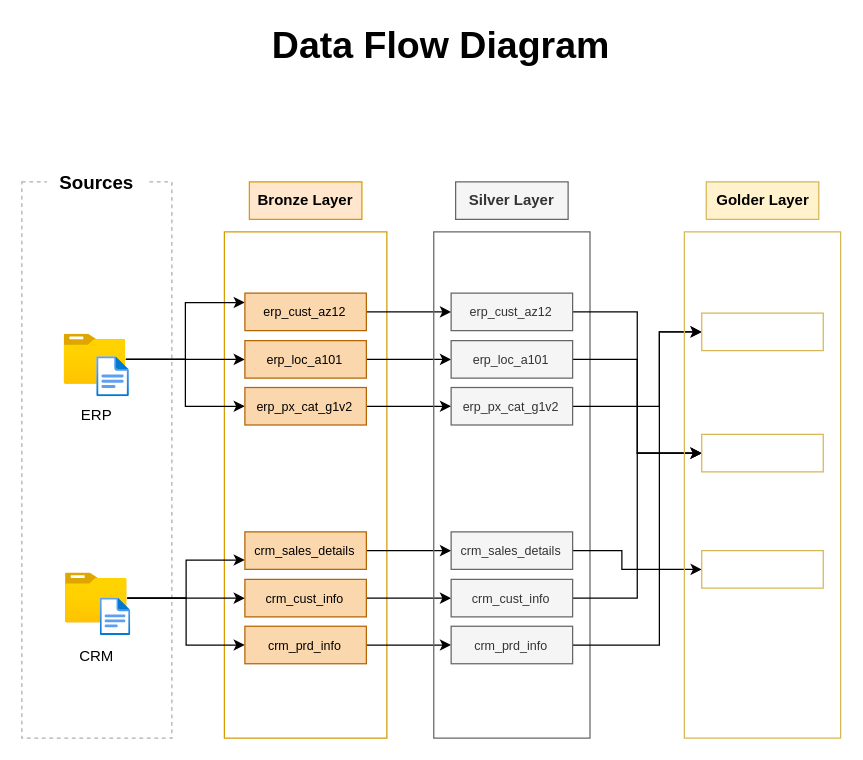
The diagram is 863 pixels wide and 760 high, and some of its shapes have lost their labels. The box of each missing label's shape, as (x1, y1, x2, y2) in pixels:
dim_customers: (700, 433, 823, 472)
dim_products: (700, 312, 823, 351)
fact_sales: (700, 549, 823, 588)
